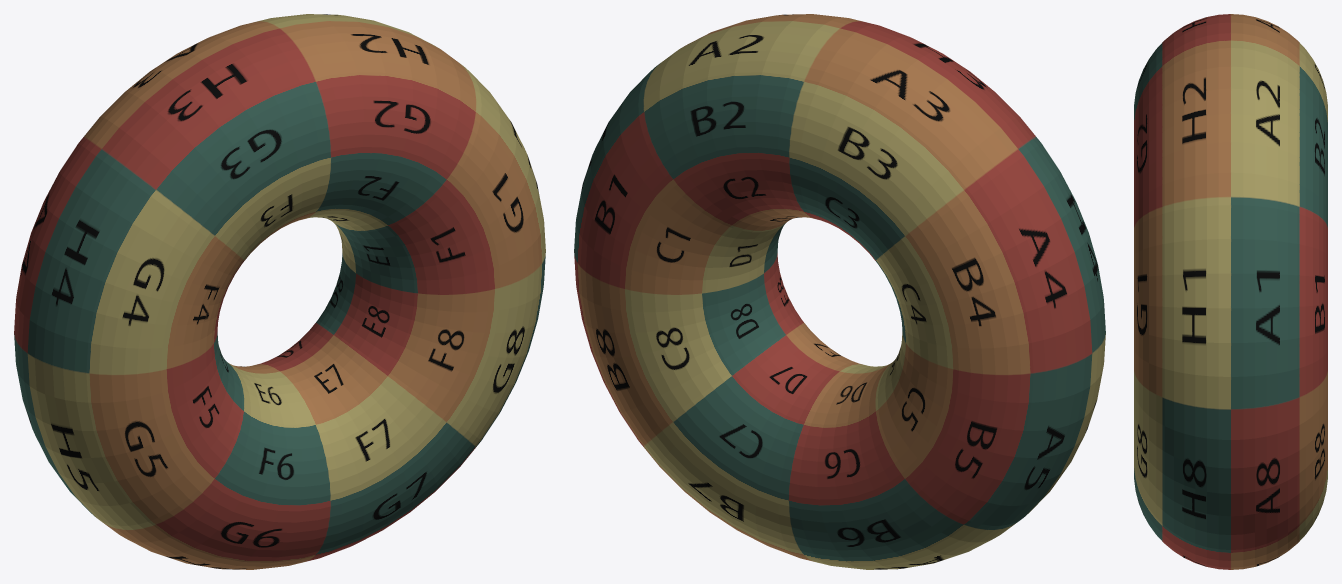
The model's file is texture_torus_R4_r18.glb.
3 views of the same model, side by side, from view 1: azimuth 30°, elevation 25°; view 2: azimuth 150°, elevation 25°; view 3: azimuth 270°, elevation 25° (orthographic). The views are drawn at different scales.
Parts seen in each view (by area): view 1: world; view 2: world; view 3: world.
Boxes of the visible parts, x1,y1,x2,y2 form: world: (14,14,545,569); world: (574,14,1105,569); world: (1134,14,1327,569).
Size of the model in its own units: 19.47 by 19.43 by 6.79.
1 material, 1 textured.
